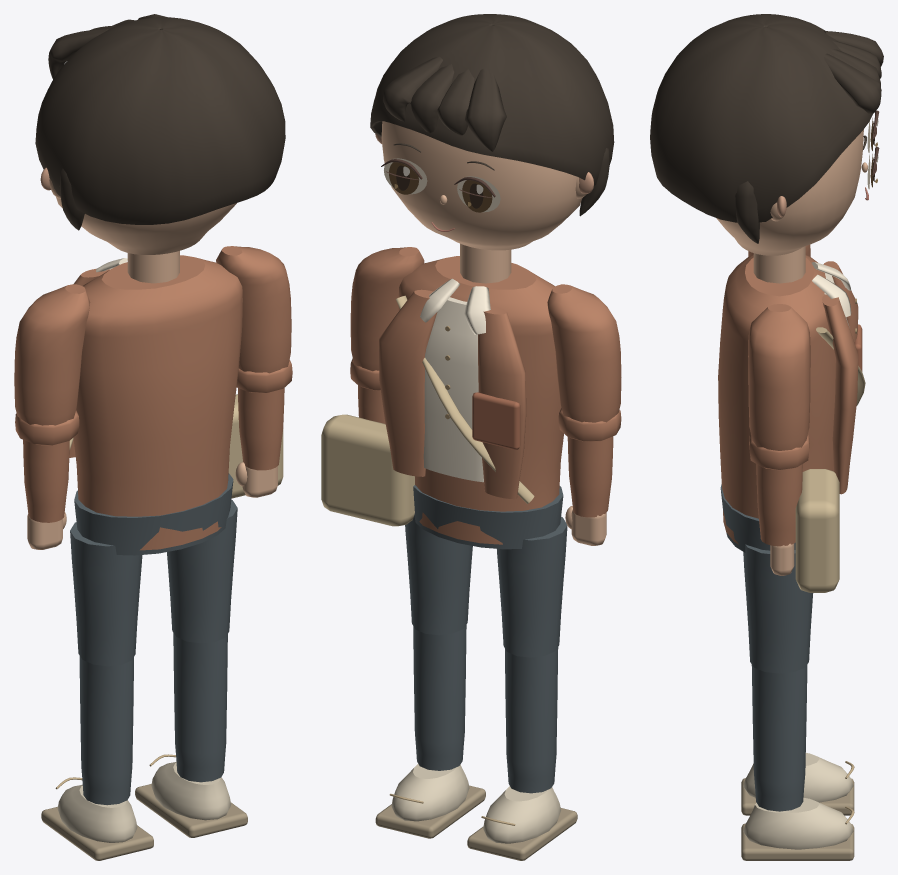
Rendered from visitor-a-native-v3.glb.
3 renders of one model, left to right at view 1: azimuth 30°, elevation 25°; view 2: azimuth 150°, elevation 25°; view 3: azimuth 270°, elevation 25°, orthographic. The views are drawn at different scales.
Visible parts, largest first — view 1: head.surface.8, body.surface.0, arm-left.surface.29, leg-left.surface.32, arm-right.surface.37, shin-right.surface.41, shin-left.surface.33, leg-right.surface.40, body.surface.3, head.surface.7, forearm-left.surface.30, forearm-right.surface.38 (+9 smaller); view 2: head.surface.8, body.surface.0, head.surface.7, body.surface.5, arm-left.surface.29, body.surface.1, leg-left.surface.32, shin-right.surface.41, shin-left.surface.33, leg-right.surface.40, arm-right.surface.37, body.surface.3 (+10 smaller); view 3: head.surface.8, body.surface.0, arm-right.surface.37, shin-right.surface.41, leg-right.surface.40, head.surface.7, body.surface.5, foot-right.surface.42, forearm-right.surface.38, foot-left.surface.34, foot-right.surface.43, body.surface.2 (+5 smaller).
Boxes of the visible parts, x1=… form: head.surface.8: x1=35, y1=14, x2=285, y2=224; body.surface.0: x1=69, y1=255, x2=242, y2=550; arm-left.surface.29: x1=14, y1=284, x2=90, y2=445; leg-left.surface.32: x1=70, y1=522, x2=142, y2=666; arm-right.surface.37: x1=216, y1=246, x2=292, y2=393; shin-right.surface.41: x1=173, y1=633, x2=227, y2=782; shin-left.surface.33: x1=79, y1=656, x2=133, y2=805; leg-right.surface.40: x1=167, y1=499, x2=237, y2=643; body.surface.3: x1=74, y1=473, x2=233, y2=555; head.surface.7: x1=49, y1=178, x2=236, y2=254; forearm-left.surface.30: x1=23, y1=440, x2=69, y2=522; forearm-right.surface.38: x1=238, y1=388, x2=284, y2=470; head.surface.8: x1=370, y1=14, x2=614, y2=185; body.surface.0: x1=379, y1=256, x2=563, y2=544; head.surface.7: x1=381, y1=121, x2=586, y2=250; body.surface.5: x1=321, y1=295, x2=534, y2=526; arm-left.surface.29: x1=547, y1=284, x2=621, y2=441; body.surface.1: x1=420, y1=278, x2=490, y2=482; leg-left.surface.32: x1=497, y1=516, x2=567, y2=657; shin-right.surface.41: x1=413, y1=625, x2=466, y2=770; shin-left.surface.33: x1=505, y1=647, x2=558, y2=793; leg-right.surface.40: x1=405, y1=515, x2=472, y2=635; arm-right.surface.37: x1=350, y1=247, x2=424, y2=390; body.surface.3: x1=413, y1=485, x2=563, y2=549; head.surface.8: x1=650, y1=14, x2=883, y2=222; body.surface.0: x1=718, y1=255, x2=858, y2=544; arm-right.surface.37: x1=748, y1=304, x2=810, y2=470; shin-right.surface.41: x1=751, y1=664, x2=807, y2=811; leg-right.surface.40: x1=743, y1=544, x2=813, y2=673; head.surface.7: x1=716, y1=129, x2=867, y2=255; body.surface.5: x1=795, y1=327, x2=865, y2=592; foot-right.surface.42: x1=743, y1=797, x2=853, y2=849; forearm-right.surface.38: x1=756, y1=464, x2=802, y2=546; foot-left.surface.34: x1=743, y1=753, x2=853, y2=802; foot-right.surface.43: x1=741, y1=823, x2=854, y2=860; body.surface.2: x1=753, y1=246, x2=805, y2=283.
Size of the model in its own units: 0.5924 by 1.64 by 0.436.
Materials: 20 (1 with a texture image).
